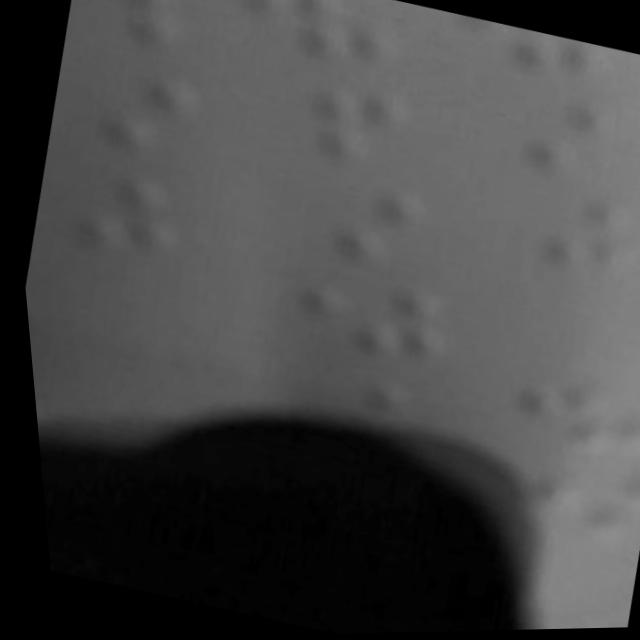braiile: (451, 168, 640, 298), (440, 77, 634, 203), (251, 163, 442, 289), (270, 262, 457, 389), (236, 67, 430, 189), (222, 0, 426, 104), (487, 372, 640, 489), (502, 463, 640, 564)
